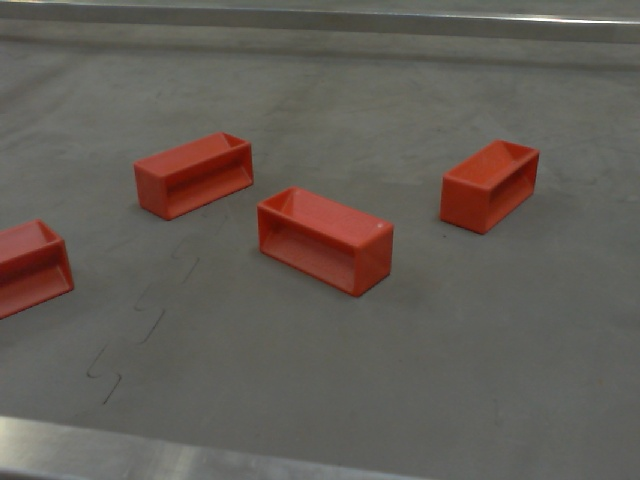RedSample: (256, 184, 394, 298), (130, 130, 258, 222), (438, 136, 541, 236), (1, 212, 73, 318)
